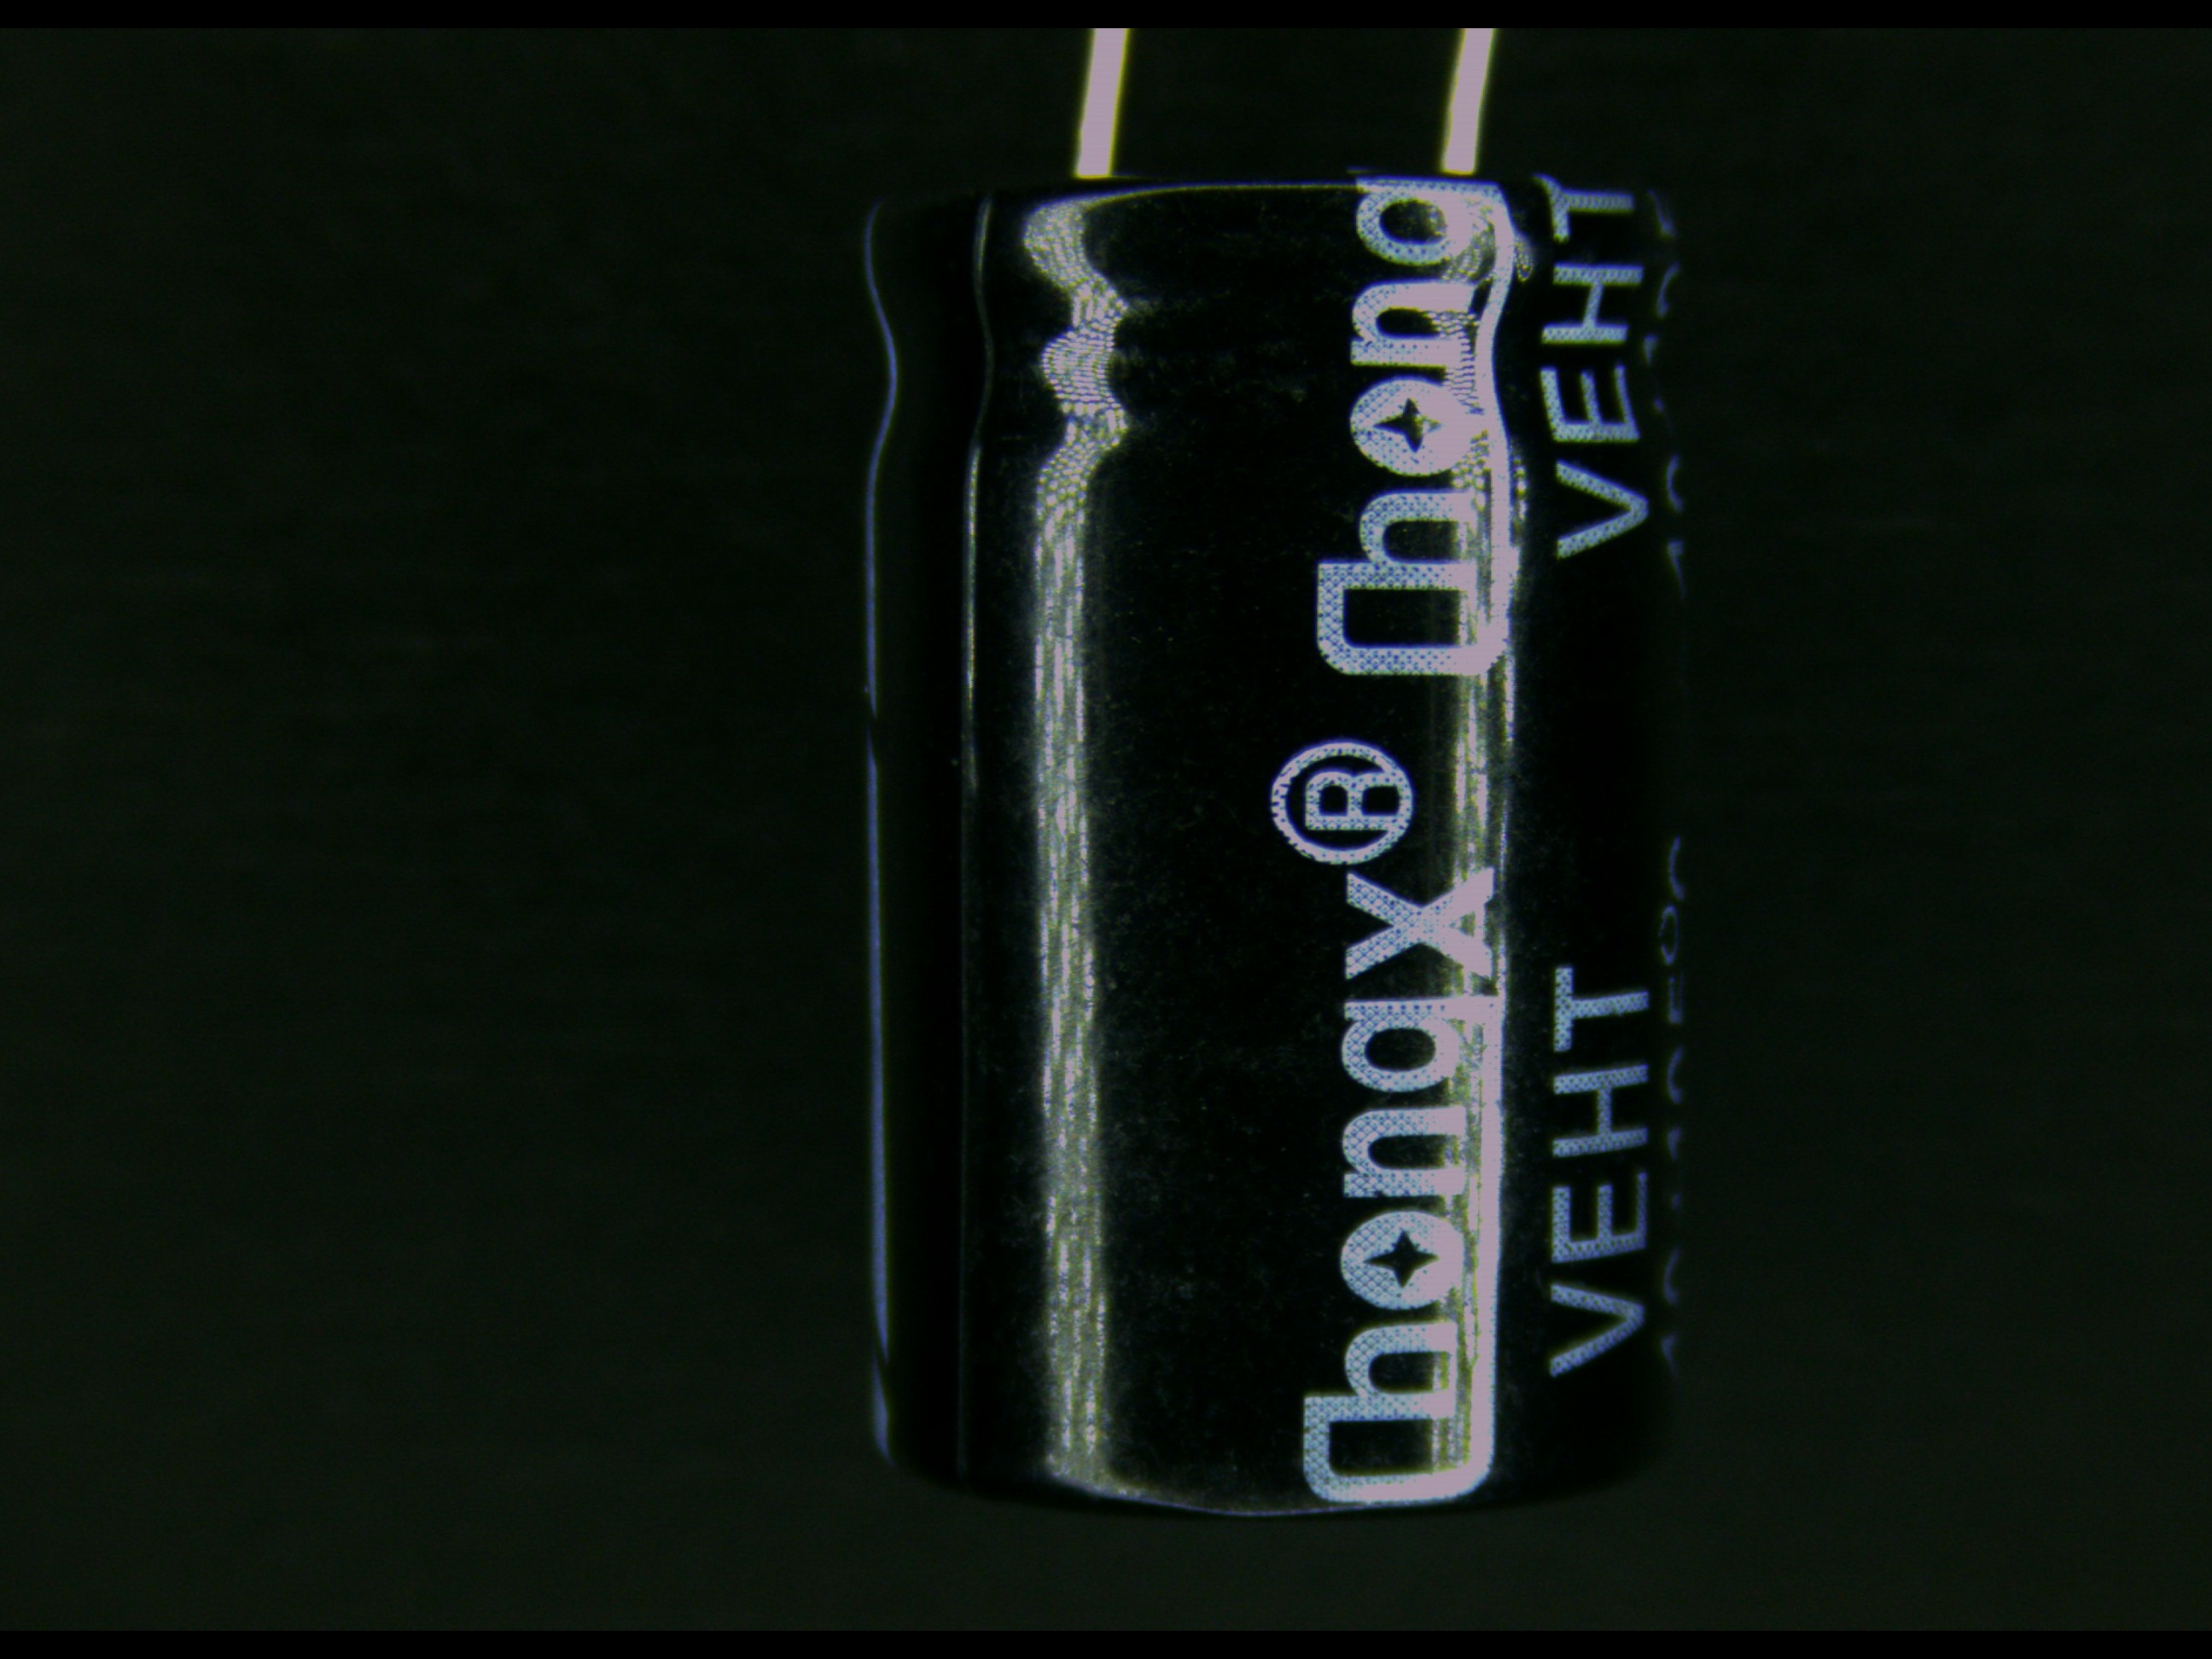c3: (843, 150, 1716, 1528)
